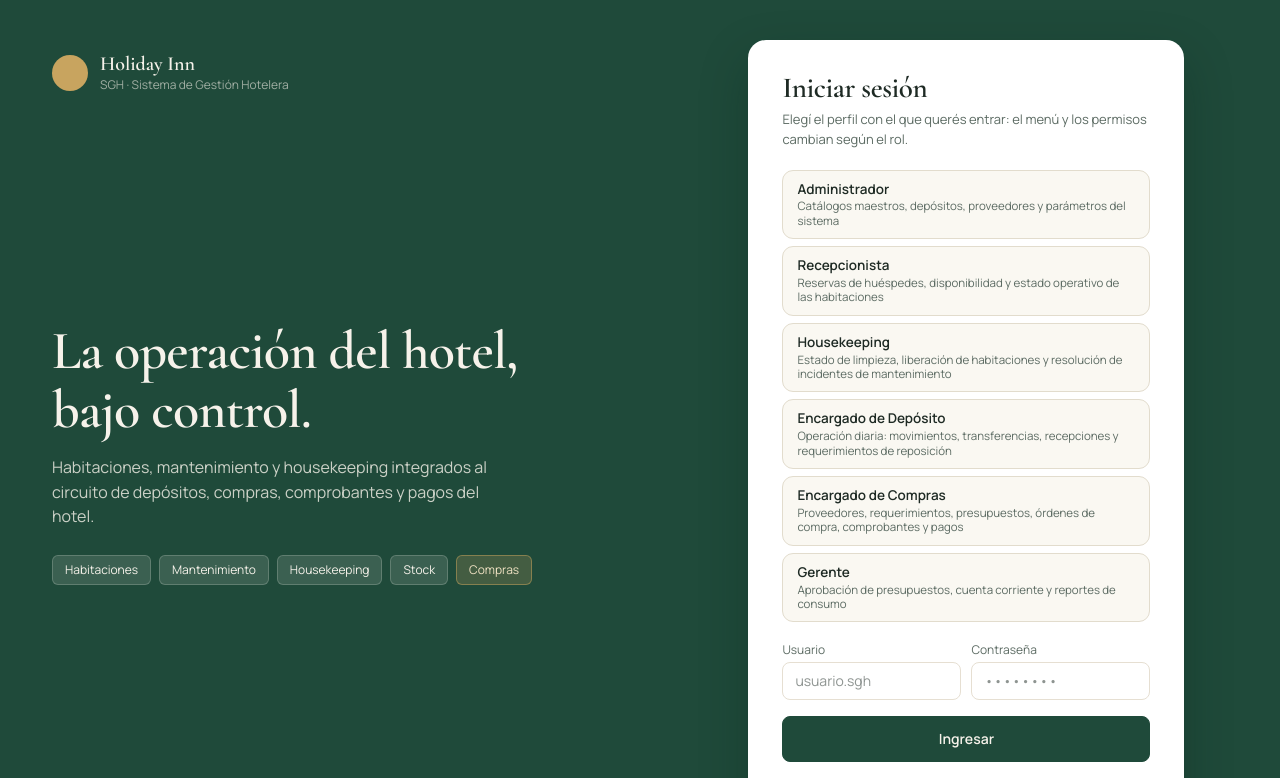
LoginPage — mismo login de siempre, ahora validado de verdad › si el backend rechaza (contraseña mala o perfil equivocado), muestra su mensaje y limpia la contraseña
The width and height of the screenshot is (1280, 778).
Step 1. Click the button "Gerente" → (966, 588), box [782,553,1150,622]
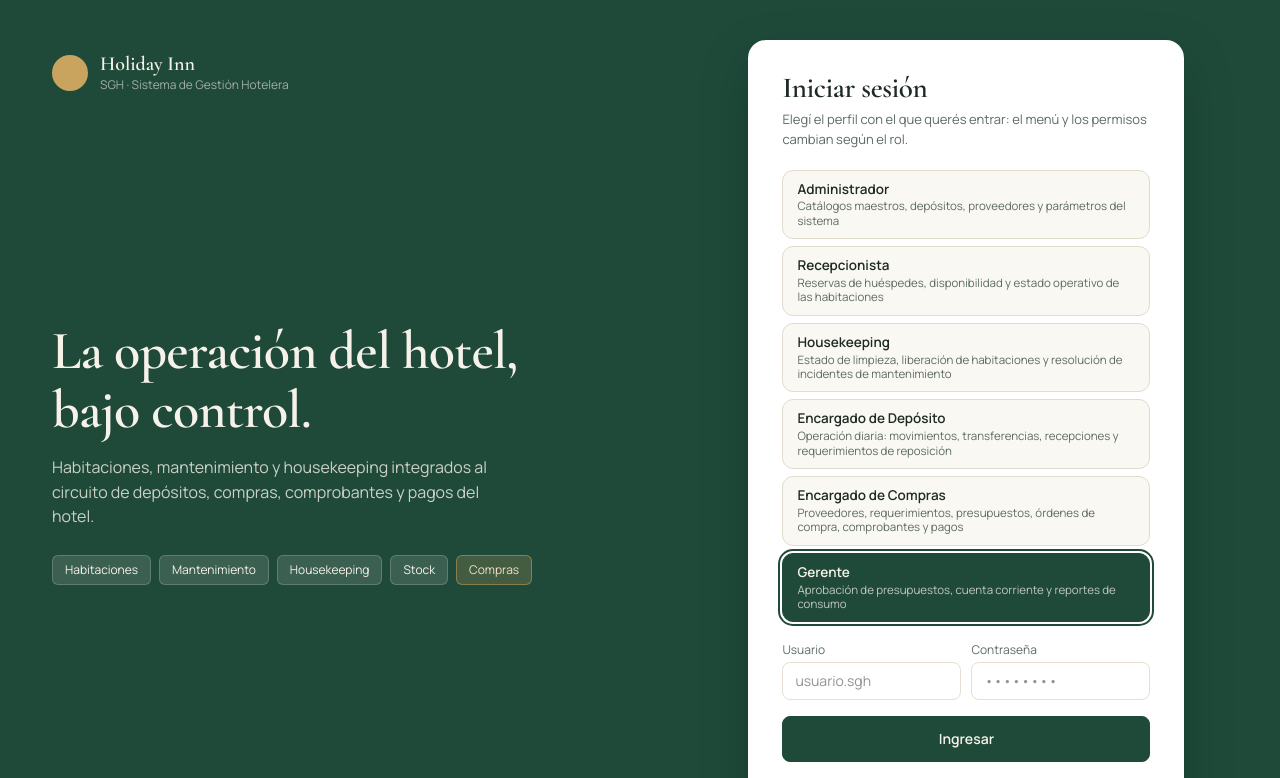
Step 2. Type "ana.recepcion" into the field with placeholder "usuario.sgh" → (872, 681), box [782,662,961,700]
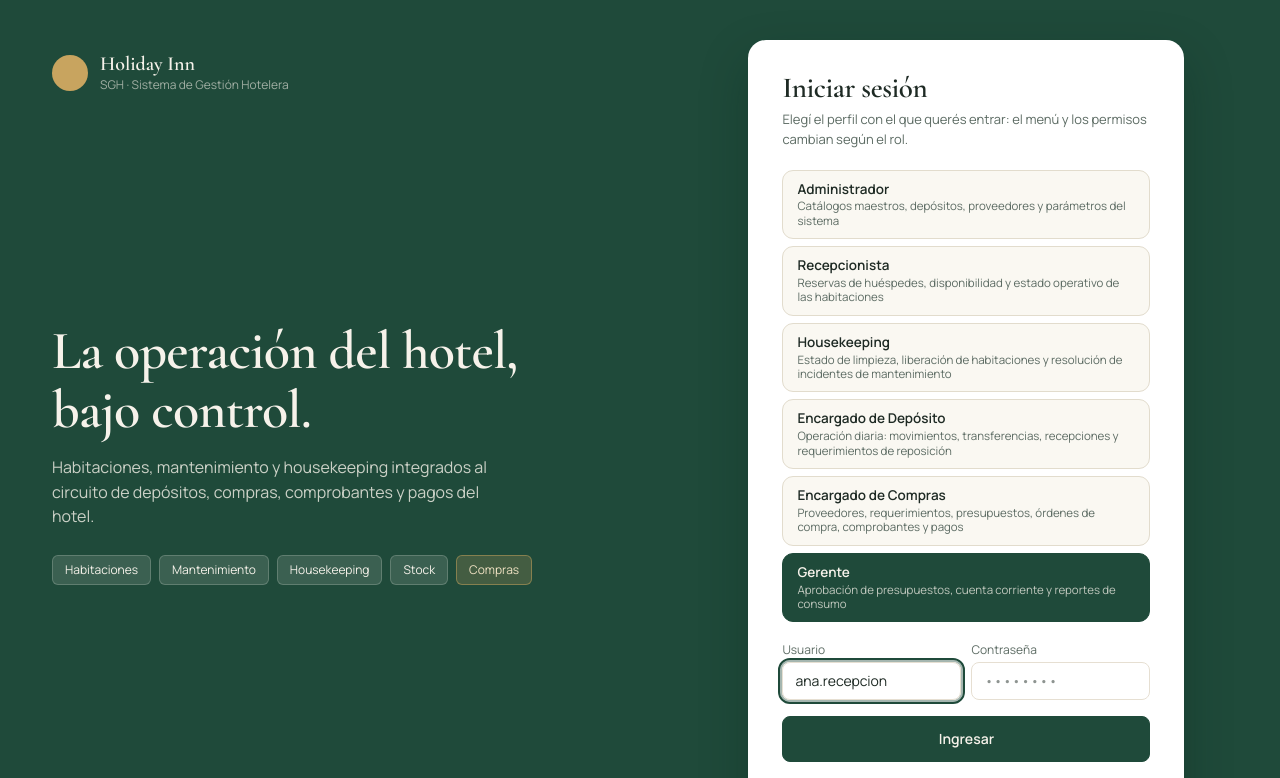
Step 3. Type "secreta1" into the password field with placeholder "••••••••" → (1061, 681), box [971,662,1150,700]
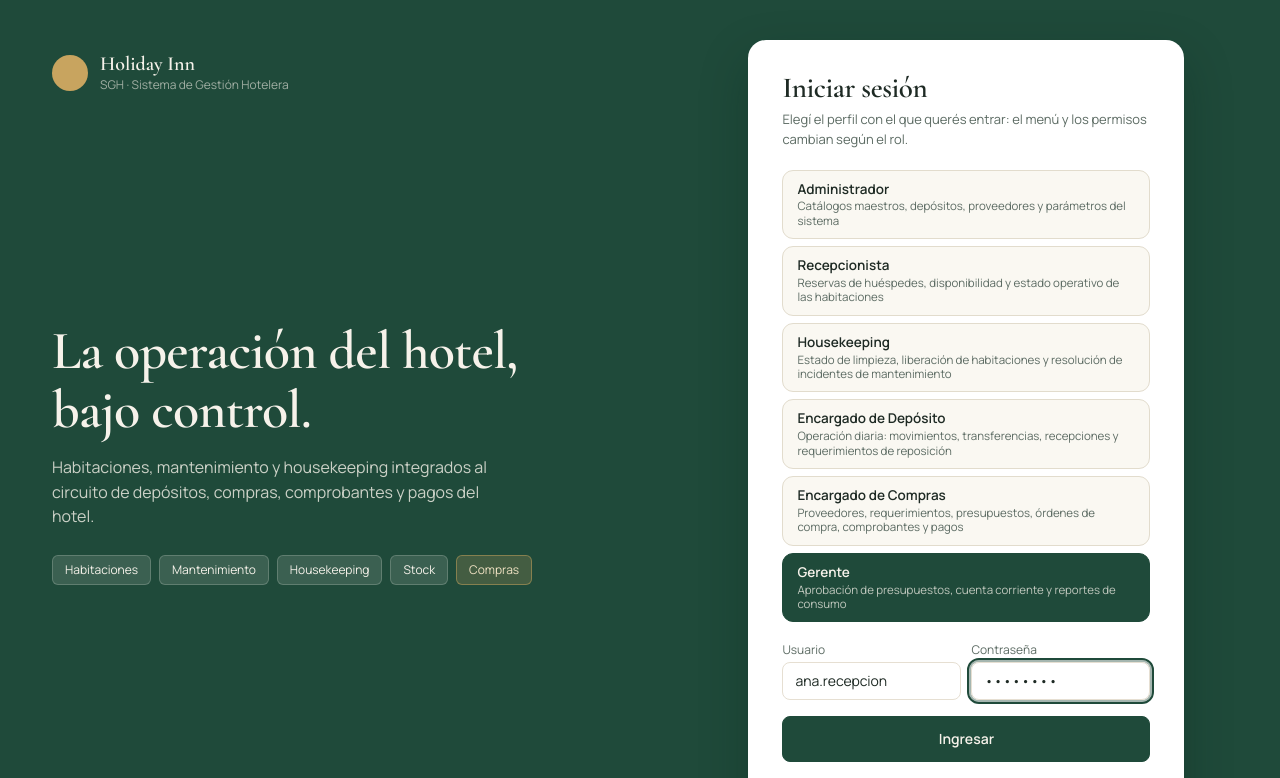
Step 4. Click the button "Ingresar" → (966, 739), box [782,716,1150,762]
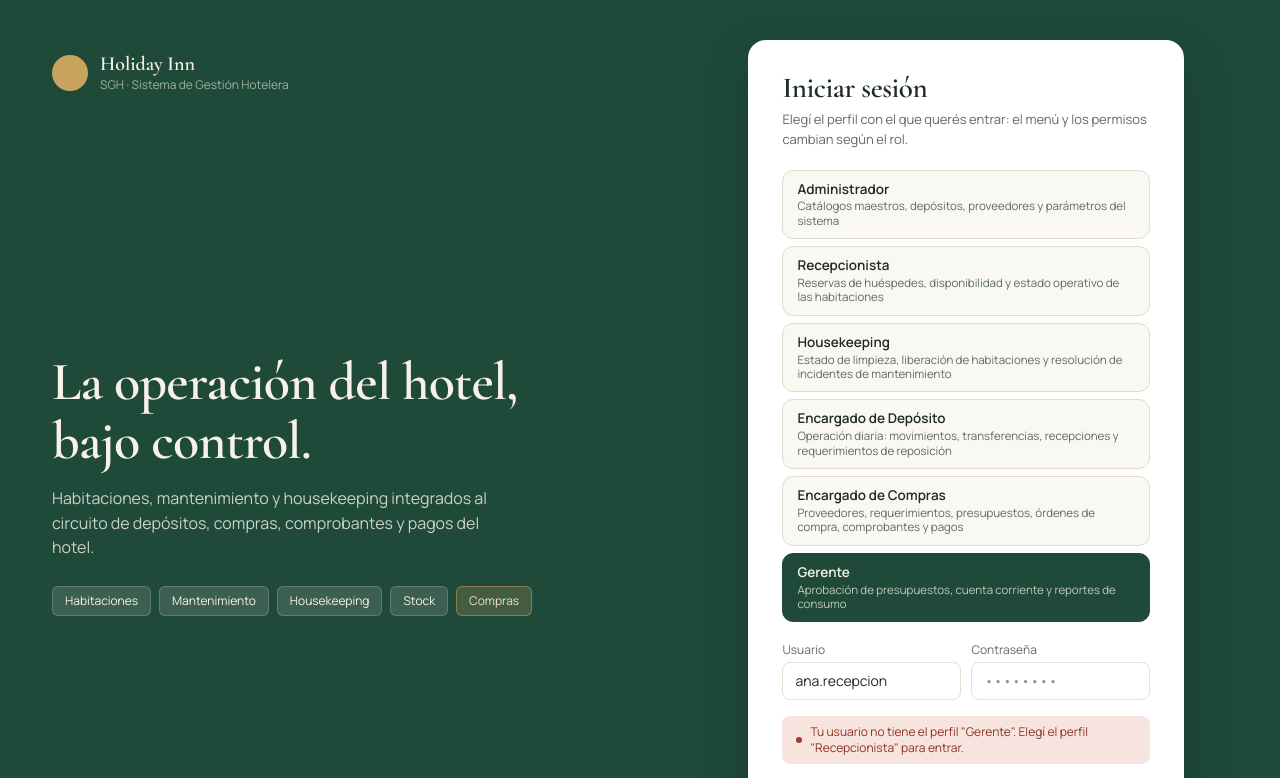
Result: the text "no tiene el perfil \"Gerente\"" is shown at [810,723,1088,756]
Result: the password field with placeholder "••••••••" is empty at [971,662,1150,700]
